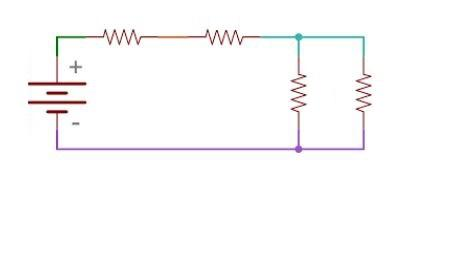resistor: (89, 13, 150, 56), (344, 58, 382, 122), (278, 61, 315, 120), (188, 20, 252, 51)
